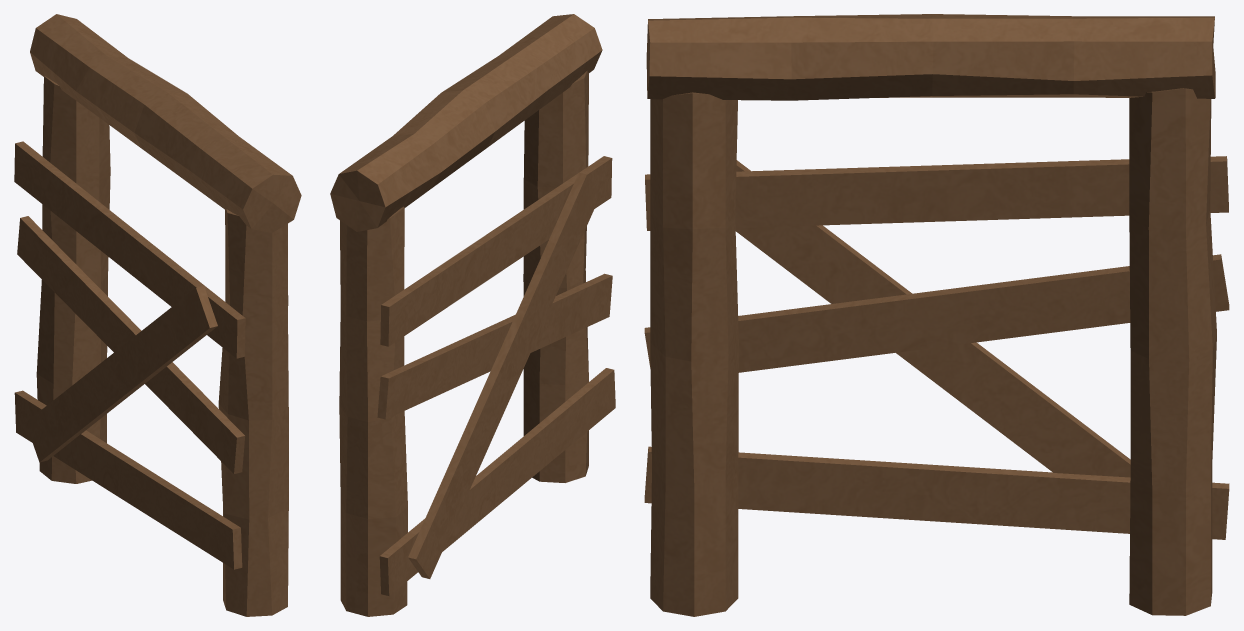
Rendered from Doorway_Blocked.fbx.
3 views of the same model, side by side, from view 1: azimuth 30°, elevation 25°; view 2: azimuth 150°, elevation 25°; view 3: azimuth 270°, elevation 25° (orthographic). The views are drawn at different scales.
Parts seen in each view (by area): view 1: pCylinder4; view 2: pCylinder4; view 3: pCylinder4.
Boxes of the visible parts, x1,y1,x2,y2 form: pCylinder4: [14, 14, 301, 616]; pCylinder4: [330, 14, 615, 616]; pCylinder4: [644, 14, 1229, 616].
Size of the model in its own units: 66.15 by 363 by 331.
Materials: 1 (1 with a texture image).
